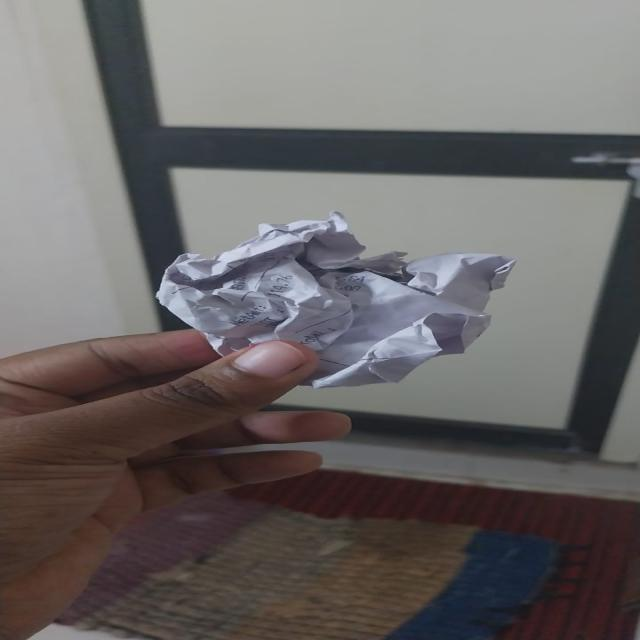Paper - Recyclable: (153, 210, 518, 390)
